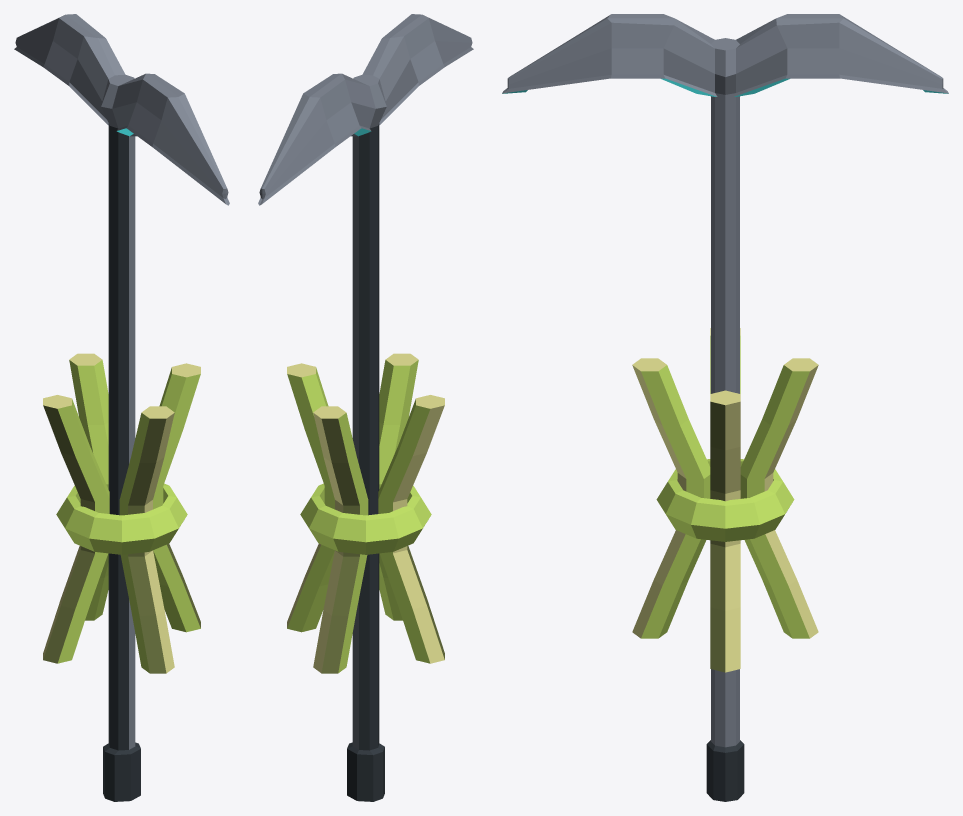
Rendered from poste2.fbx.
The picture shows the model from 3 angles, left to right: view 1: azimuth 30°, elevation 25°; view 2: azimuth 150°, elevation 25°; view 3: azimuth 270°, elevation 25°; orthographic projection. The views are drawn at different scales.
Parts seen in each view (by area): view 1: Cylinder, Cylinder.002, Cylinder.001, Torus.001; view 2: Cylinder, Cylinder.002, Cylinder.001, Torus.001; view 3: Cylinder, Cylinder.001, Cylinder.002, Torus.001.
Boxes of the visible parts, bbox=[...] form: Cylinder: bbox=[14, 14, 229, 801]; Cylinder.002: bbox=[43, 363, 200, 663]; Cylinder.001: bbox=[69, 353, 174, 673]; Torus.001: bbox=[56, 483, 187, 554]; Cylinder: bbox=[258, 14, 473, 801]; Cylinder.002: bbox=[287, 363, 444, 663]; Cylinder.001: bbox=[313, 353, 418, 673]; Torus.001: bbox=[300, 483, 431, 554]; Cylinder: bbox=[502, 14, 948, 801]; Cylinder.001: bbox=[632, 358, 818, 638]; Cylinder.002: bbox=[710, 328, 740, 672]; Torus.001: bbox=[656, 459, 794, 541].
Size of the model in its own units: 187 by 835 by 436.
